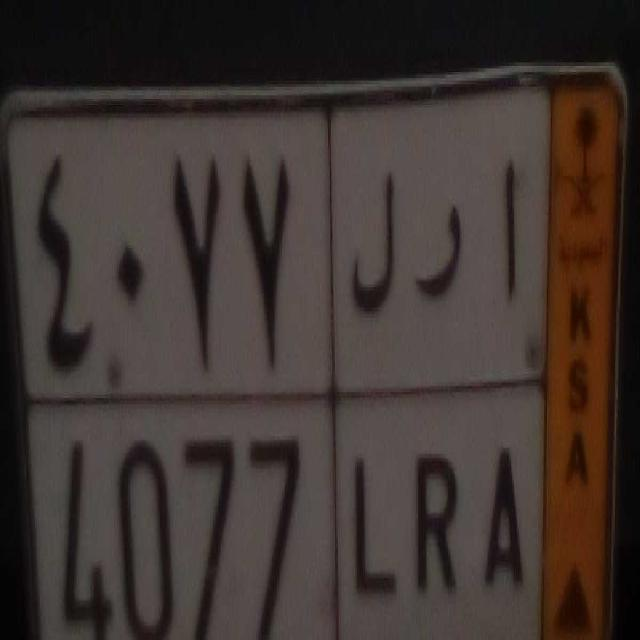license_plate: (23, 382, 546, 640)
